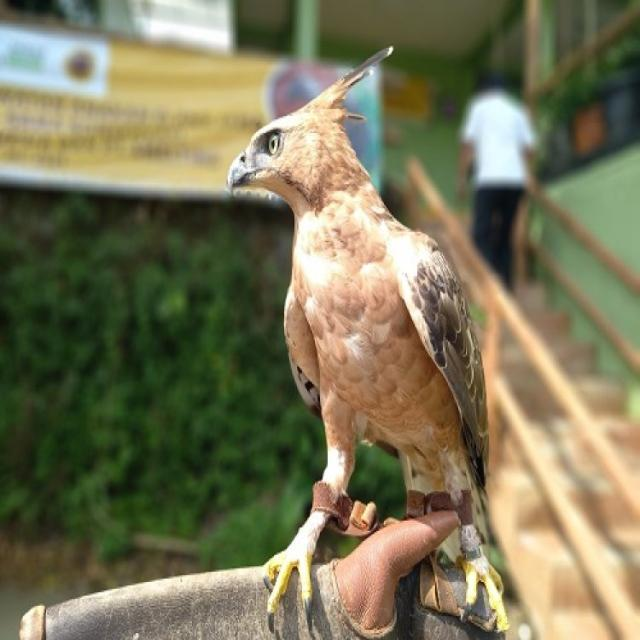Elang Jawa: (179, 24, 529, 640)
